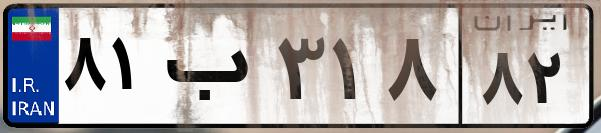1: (330, 28, 385, 110), (110, 28, 158, 98)
2: (525, 38, 570, 115)
3: (270, 28, 330, 110)
8: (385, 28, 445, 110), (57, 26, 110, 100), (475, 38, 525, 113)
ب: (158, 20, 270, 120)
